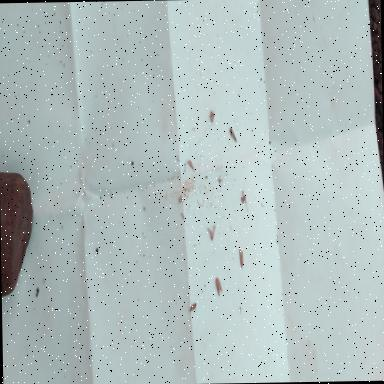pbw: (230, 128, 237, 144), (216, 278, 222, 296), (239, 248, 244, 267), (189, 302, 197, 312)
